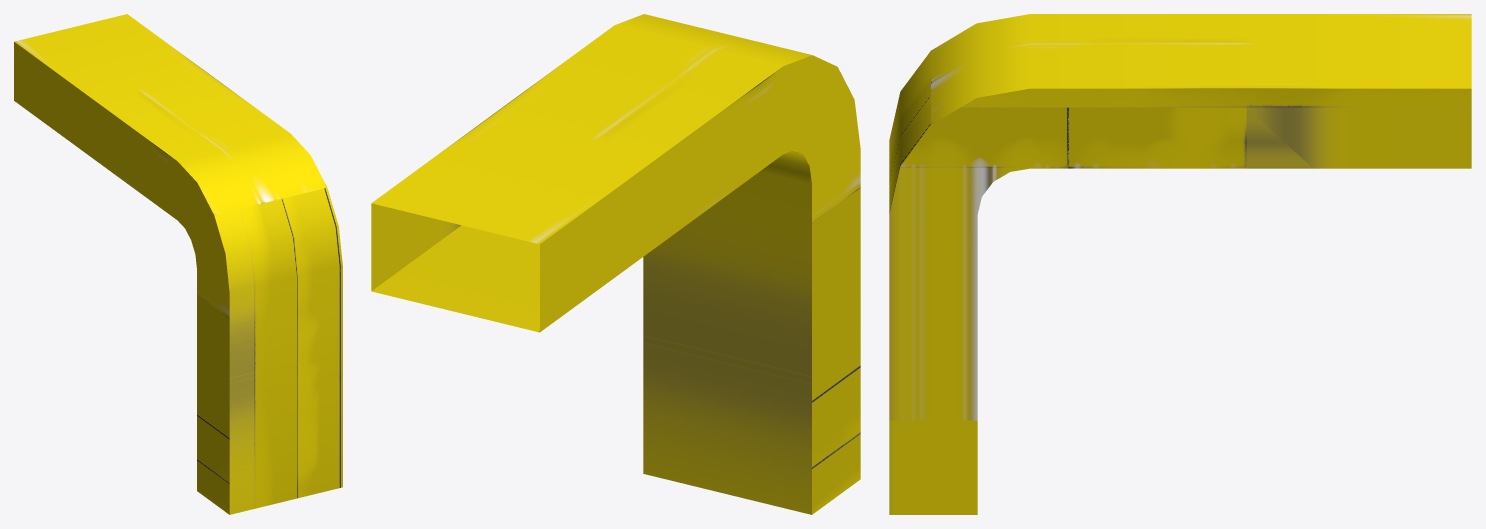
Rendered from Cable Holder Shoulder.fbx.
The picture shows the model from 3 angles, left to right: view 1: azimuth 30°, elevation 25°; view 2: azimuth 150°, elevation 25°; view 3: azimuth 270°, elevation 25°; orthographic projection. The views are drawn at different scales.
Parts seen in each view (by area): view 1: Cable Holder Shoulder; view 2: Cable Holder Shoulder; view 3: Cable Holder Shoulder.
Part boxes in pixels (left/top/right/bottom): Cable Holder Shoulder: left=14, top=14, right=342, bottom=514; Cable Holder Shoulder: left=371, top=14, right=860, bottom=514; Cable Holder Shoulder: left=889, top=14, right=1471, bottom=514.
Size of the model in its own units: 80 by 213 by 264.
